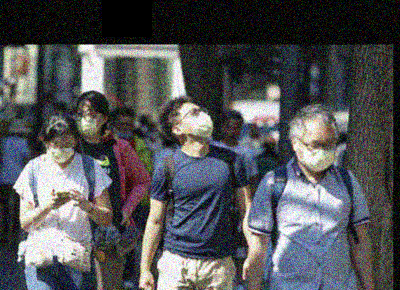mask_weared_incorrect: (115, 117, 132, 140)
with_mask: (295, 133, 337, 171), (178, 106, 212, 139), (45, 135, 75, 164), (75, 105, 102, 135)
without_mask: (222, 120, 241, 142)
